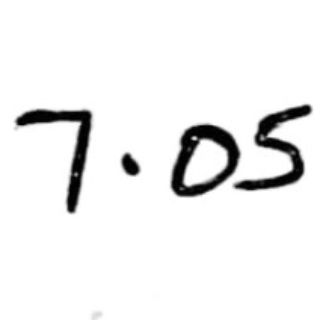.: (117, 148, 145, 179)
0: (167, 121, 241, 204)
5: (241, 100, 315, 201)
7: (14, 103, 95, 218)
